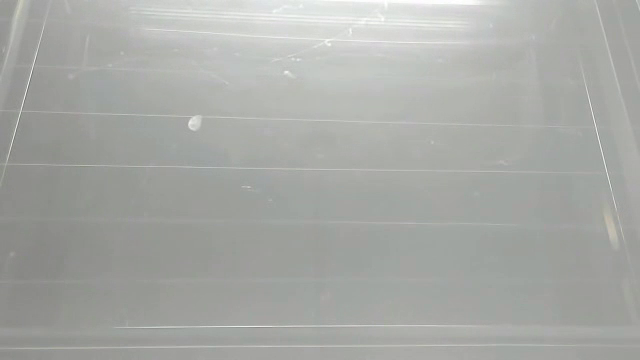alpha: (182, 111, 208, 136)
